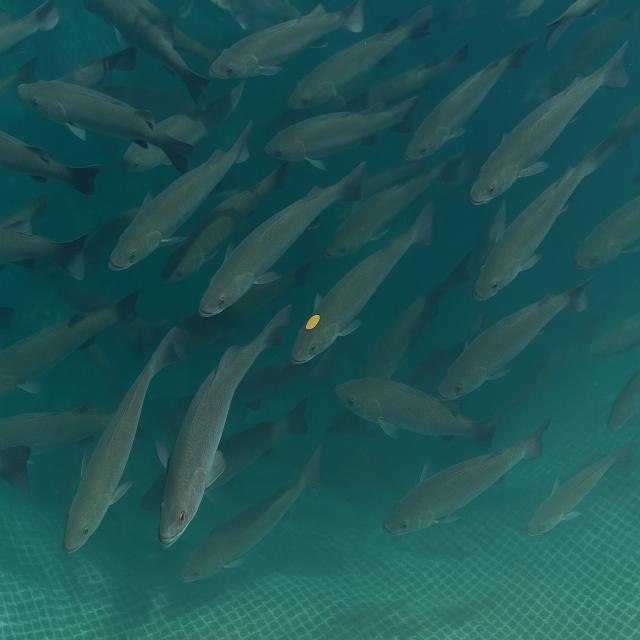ikan: (62, 321, 192, 554), (470, 41, 626, 205), (201, 170, 354, 321), (109, 120, 253, 272), (182, 444, 319, 582), (384, 420, 548, 535), (473, 149, 598, 298), (304, 207, 422, 362), (443, 279, 590, 401), (1, 283, 144, 407), (408, 40, 533, 162), (292, 2, 424, 111), (336, 361, 486, 454), (334, 155, 453, 258), (213, 0, 355, 85), (525, 438, 630, 536), (0, 122, 100, 196), (0, 222, 93, 283), (520, 53, 588, 110)
